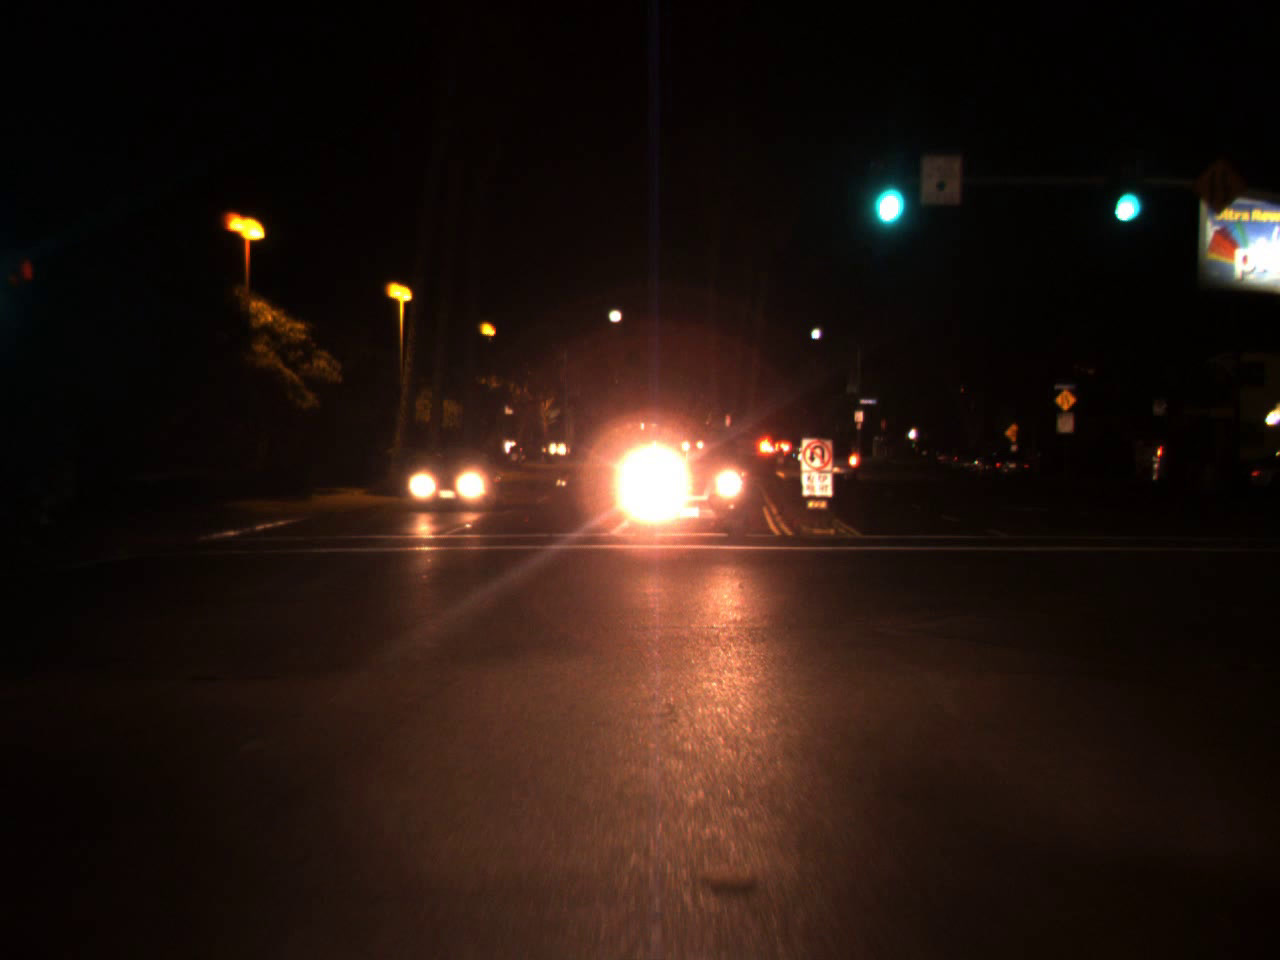go: (865, 149, 906, 236), (1104, 162, 1143, 228)
